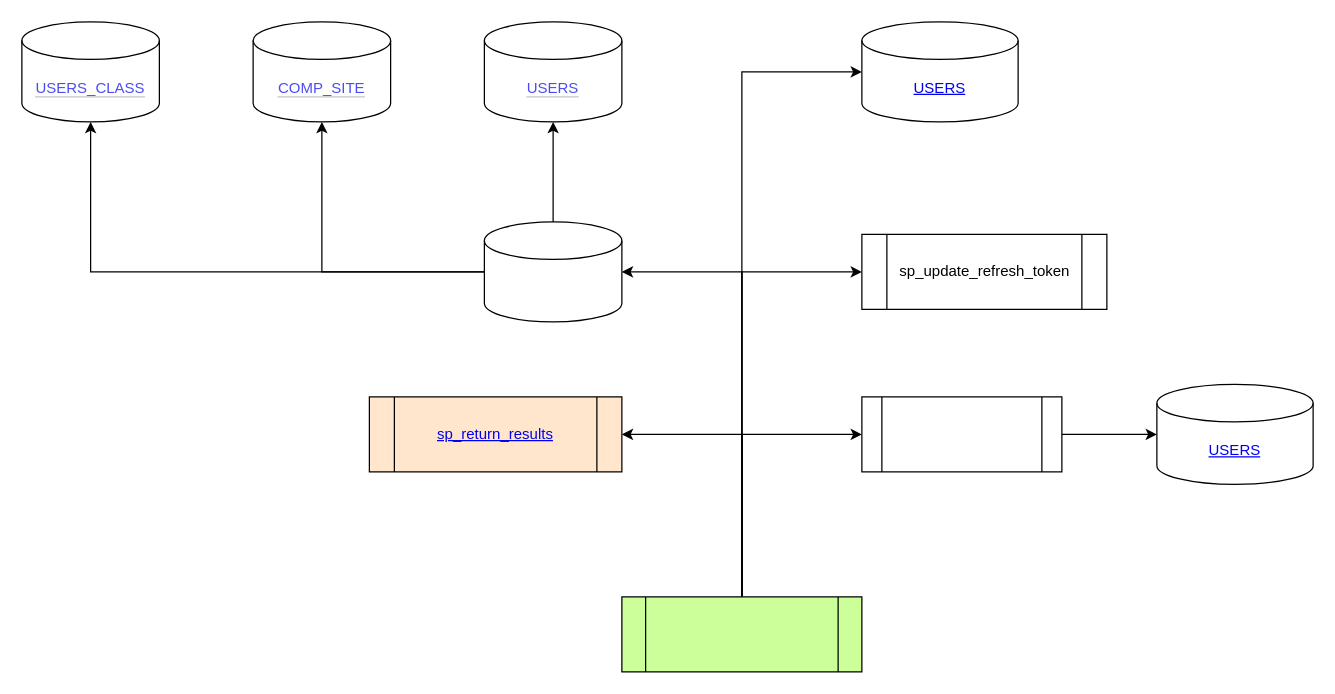
Image size: 1335x694. Some labels were removed from this diagram. Each missing label, with the box of its shape:
sp_req_user_exists: (861, 396, 1062, 472)
sp_req_user_login: (621, 596, 862, 672)
V_USERS: (483, 221, 622, 322)
